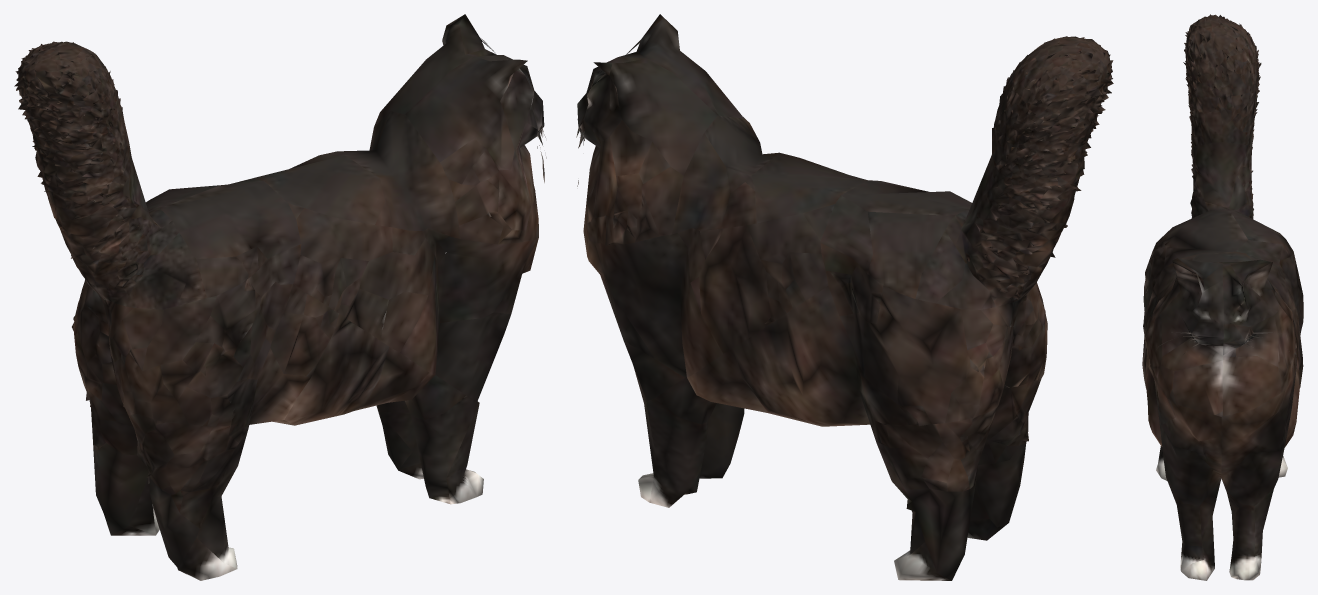
Rendered from BURWOODCAT-lo.glb.
3 views of the same model, side by side, from view 1: azimuth 30°, elevation 25°; view 2: azimuth 150°, elevation 25°; view 3: azimuth 270°, elevation 25° (orthographic). The views are drawn at different scales.
Visible parts, largest first — view 1: tripo_node_1eebbb5e-5b92-4ed1-b4ae-961cce643646; view 2: tripo_node_1eebbb5e-5b92-4ed1-b4ae-961cce643646; view 3: tripo_node_1eebbb5e-5b92-4ed1-b4ae-961cce643646.
Boxes of the visible parts, x1,y1,x2,y2 form: tripo_node_1eebbb5e-5b92-4ed1-b4ae-961cce643646: (14, 14, 546, 580); tripo_node_1eebbb5e-5b92-4ed1-b4ae-961cce643646: (576, 14, 1113, 580); tripo_node_1eebbb5e-5b92-4ed1-b4ae-961cce643646: (1142, 14, 1303, 580).
Size of the model in its own units: 1.03 by 0.9965 by 0.355.
1 material, 1 textured.
